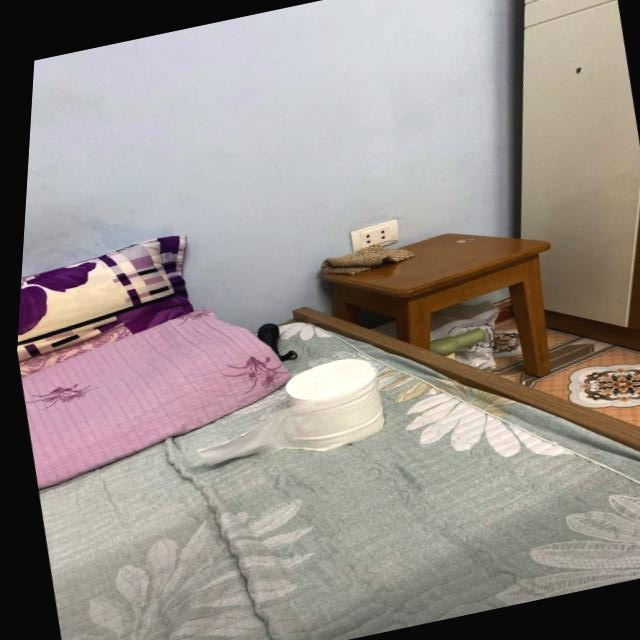outlet: (346, 220, 402, 256)
